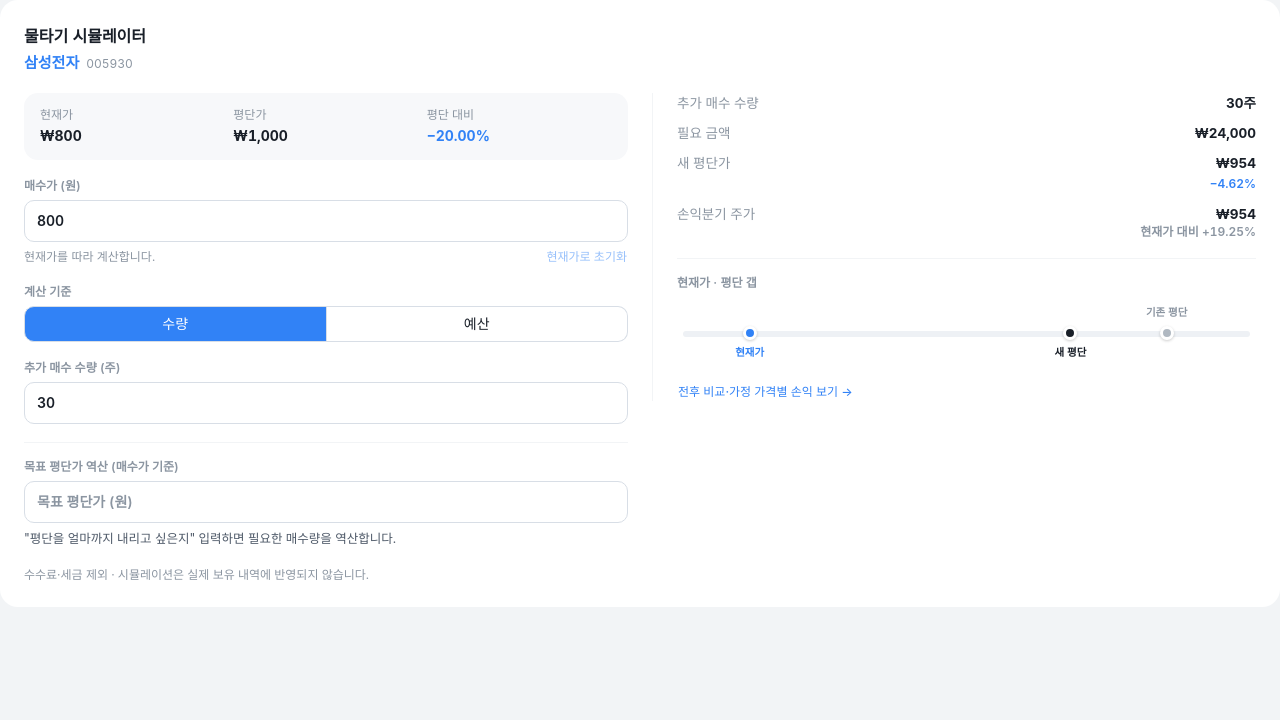
it: AveragingPanel › 200주 초과 입력과 빈 입력을 처리한다
This screenshot has width=1280, height=720.
Step 1. Clear the number field labelled "추가 매수 수량 (주)" → (326, 402), box x1=24 y1=382 x2=628 y2=424
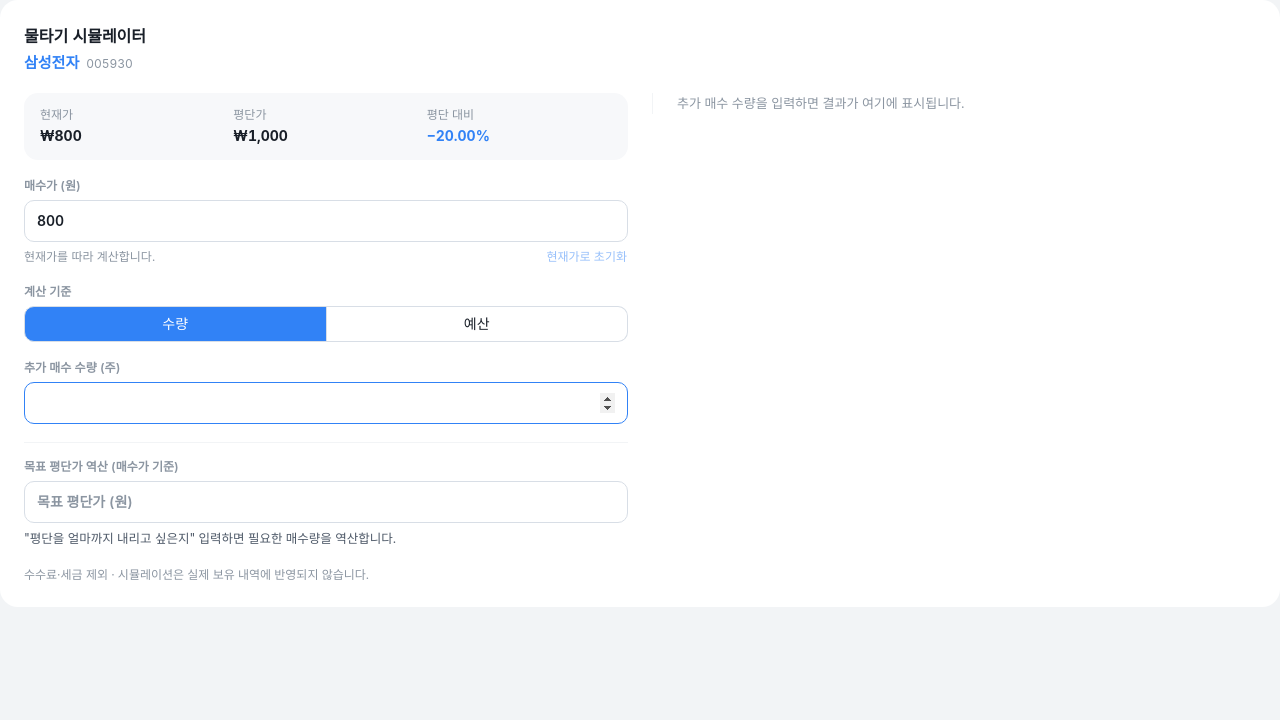
Now the text "추가 매수 수량을 입력하면 결과가 여기에 표시됩니다." is shown, box x1=677 y1=94 x2=965 y2=110
Step 2. Type "300" into the number field labelled "추가 매수 수량 (주)" → (326, 402), box x1=24 y1=382 x2=628 y2=424
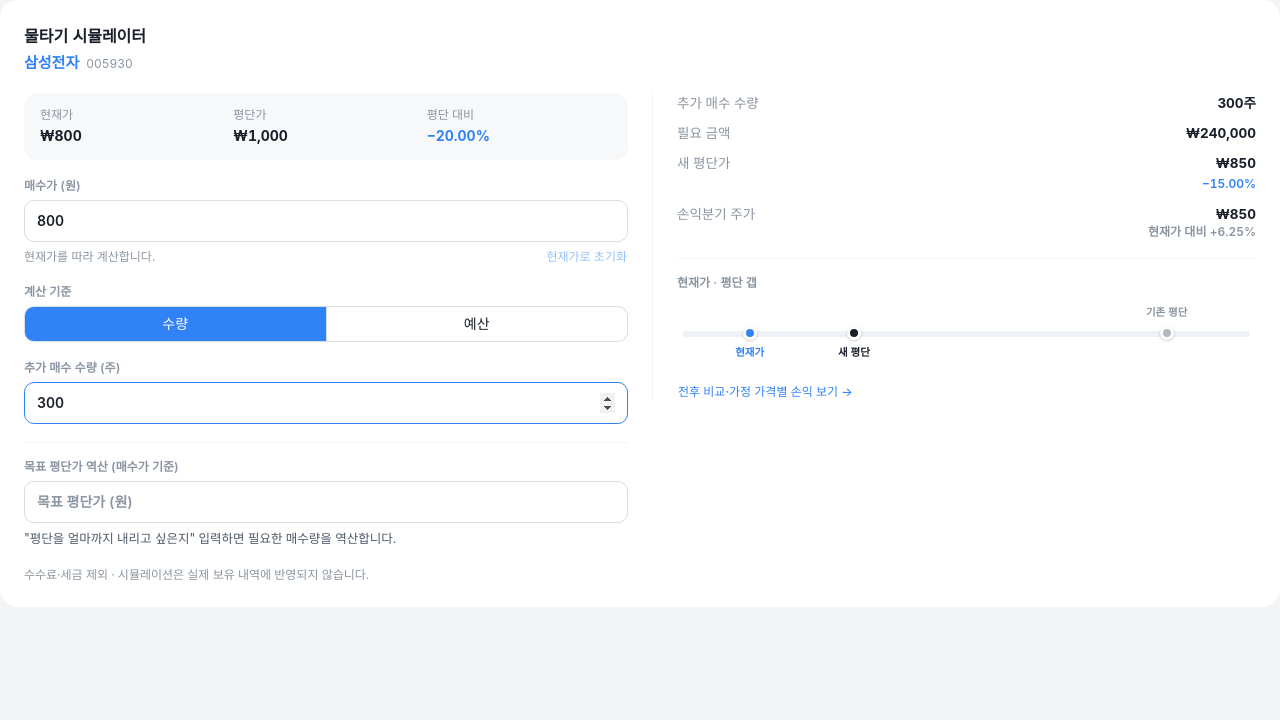
Now the text "300주" is shown, box x1=1217 y1=92 x2=1256 y2=113
